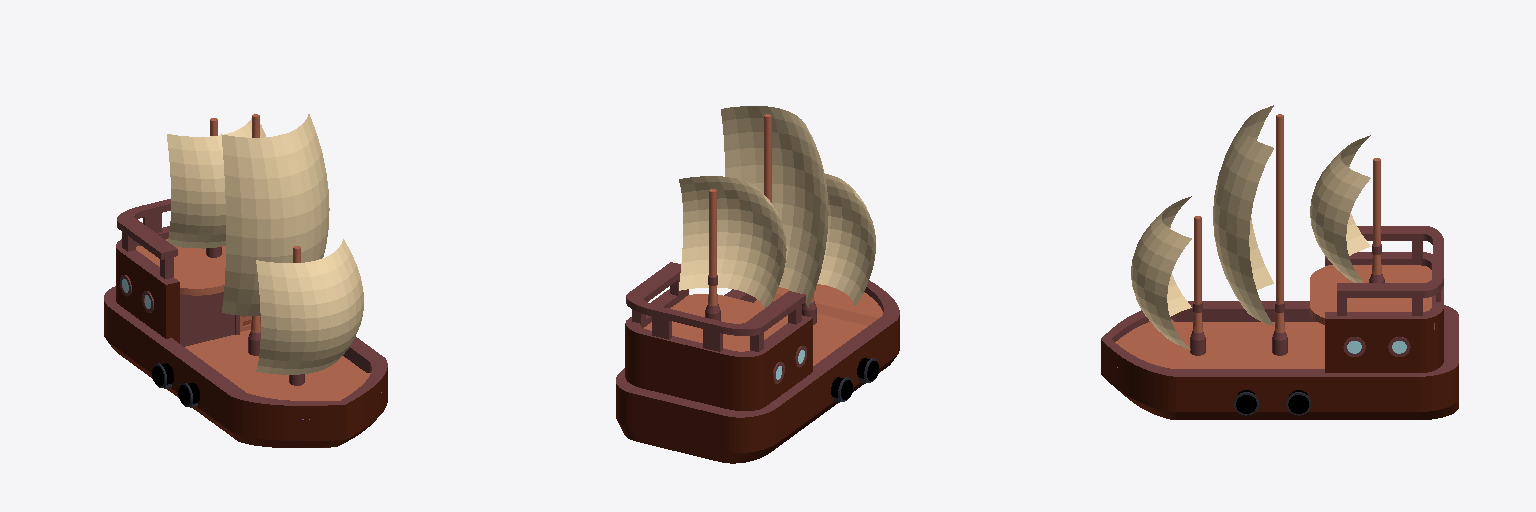
File: player_ship_1.obj
The picture shows the model from 3 angles: view 1: azimuth 30°, elevation 25°; view 2: azimuth 150°, elevation 25°; view 3: azimuth 270°, elevation 25°; orthographic projection.
Parts seen in each view (by area): view 1: mergedBlocks; view 2: mergedBlocks; view 3: mergedBlocks.
Boxes of the visible parts, x1,y1,x2,y2 form: mergedBlocks: [104, 113, 387, 447]; mergedBlocks: [616, 106, 899, 463]; mergedBlocks: [1101, 105, 1458, 419].
Size of the model in its own units: 2.8 by 4.14 by 4.8.